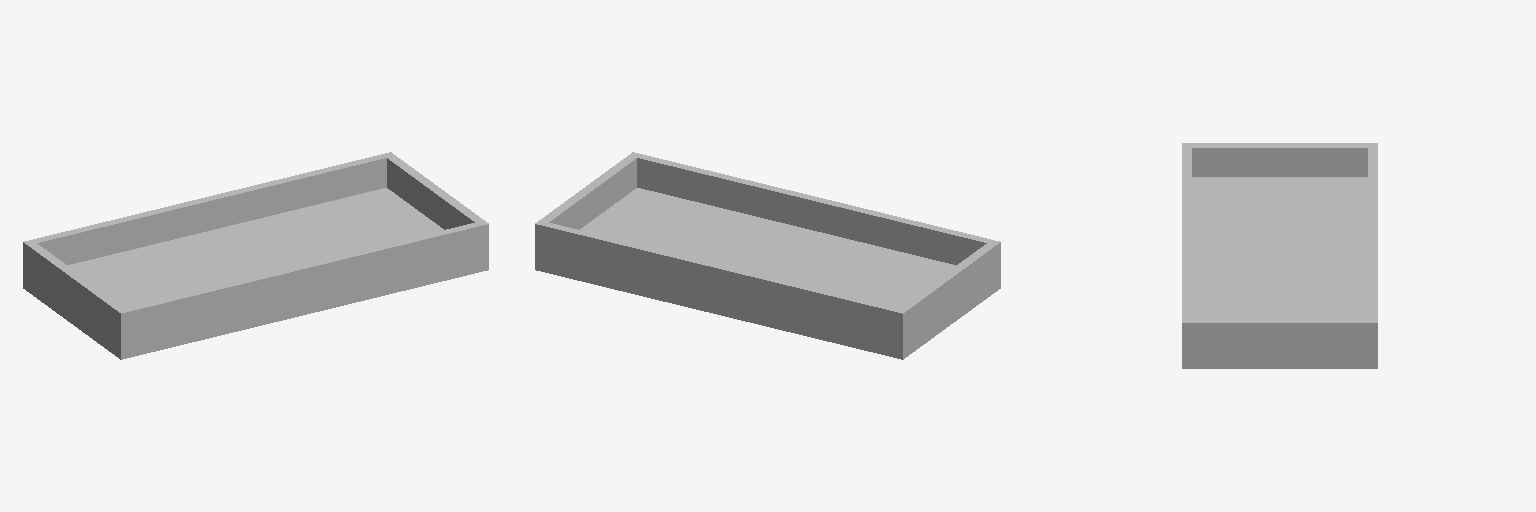
The model's file is Board2.obj.
3 views of the same model, side by side, from view 1: azimuth 30°, elevation 25°; view 2: azimuth 150°, elevation 25°; view 3: azimuth 270°, elevation 25° (orthographic).
Parts seen in each view (by area): view 1: Cube; view 2: Cube; view 3: Cube.
Boxes of the visible parts, <box> form: Cube: <box>23,152,488,359</box>; Cube: <box>535,152,1000,359</box>; Cube: <box>1182,143,1377,368</box>.
Size of the model in its own units: 2.6 by 0.312 by 1.2.